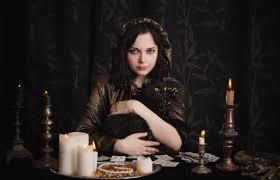middle_eastern_Female: (126, 25, 161, 79)
